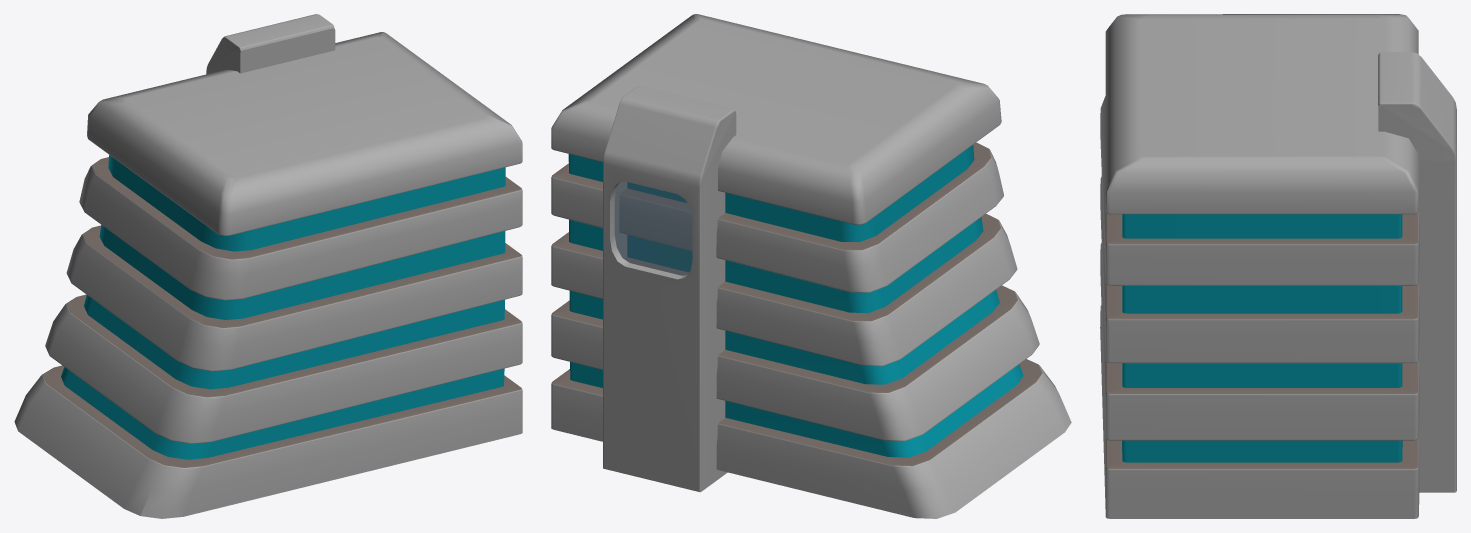
The model's file is MOD_ShortBuilding_C.fbx.
The picture shows the model from 3 angles, left to right: view 1: azimuth 30°, elevation 25°; view 2: azimuth 150°, elevation 25°; view 3: azimuth 270°, elevation 25°; orthographic projection. The views are drawn at different scales.
Parts seen in each view (by area): view 1: MOD_ShortBuilding_C; view 2: MOD_ShortBuilding_C; view 3: MOD_ShortBuilding_C.
Part boxes in pixels (box(x1,y1,x2,y2)): MOD_ShortBuilding_C: box(14, 14, 522, 518); MOD_ShortBuilding_C: box(551, 14, 1071, 518); MOD_ShortBuilding_C: box(1100, 14, 1456, 518).
Bounding box in the file's own units: 11641 × 10131 × 8411.
